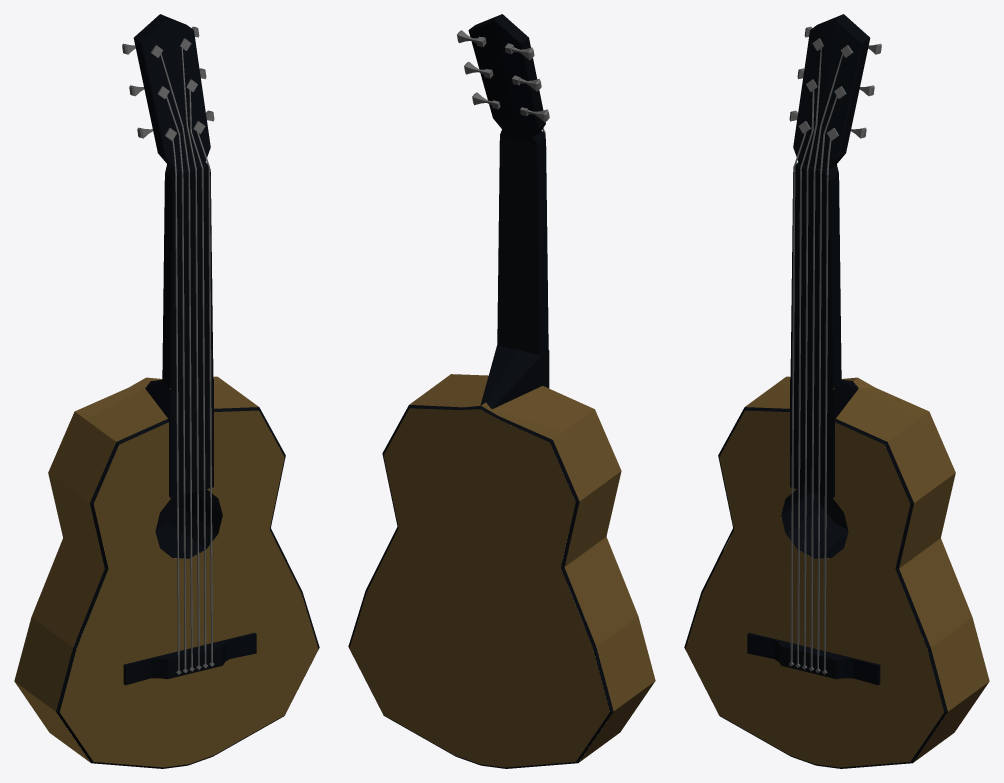
File: guitar.glb
The picture shows the model from 3 angles, left to right: view 1: azimuth 30°, elevation 25°; view 2: azimuth 150°, elevation 25°; view 3: azimuth 330°, elevation 25°; orthographic projection.
Visible parts, largest first — view 1: Guitar1; view 2: Guitar1; view 3: Guitar1.
Boxes of the visible parts, x1,y1,x2,y2 form: Guitar1: (14, 14, 319, 768); Guitar1: (348, 14, 655, 768); Guitar1: (684, 14, 989, 768).
Size of the model in its own units: 0.4811 by 1.28 by 0.1623.
